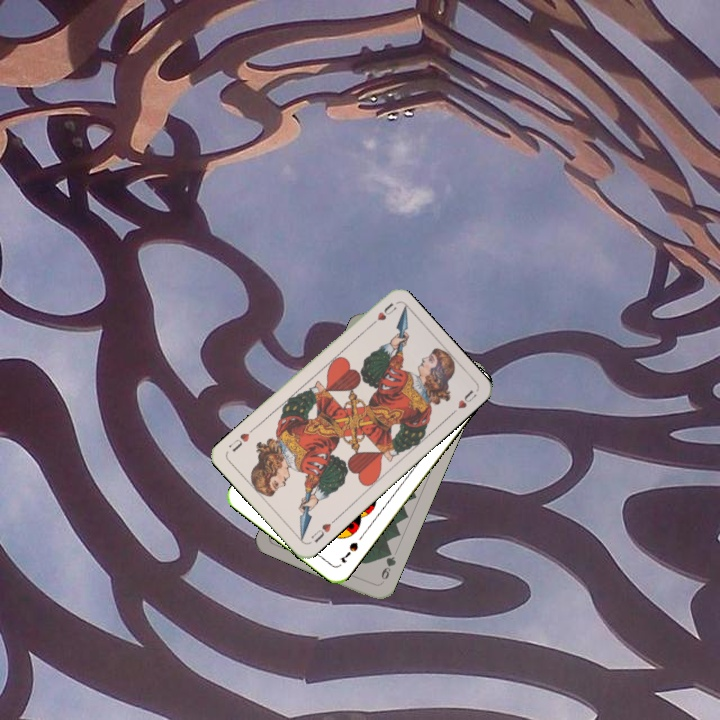G9: (376, 546, 399, 587)
HU: (364, 299, 399, 330), (307, 515, 339, 546)
S7: (335, 538, 361, 566)
